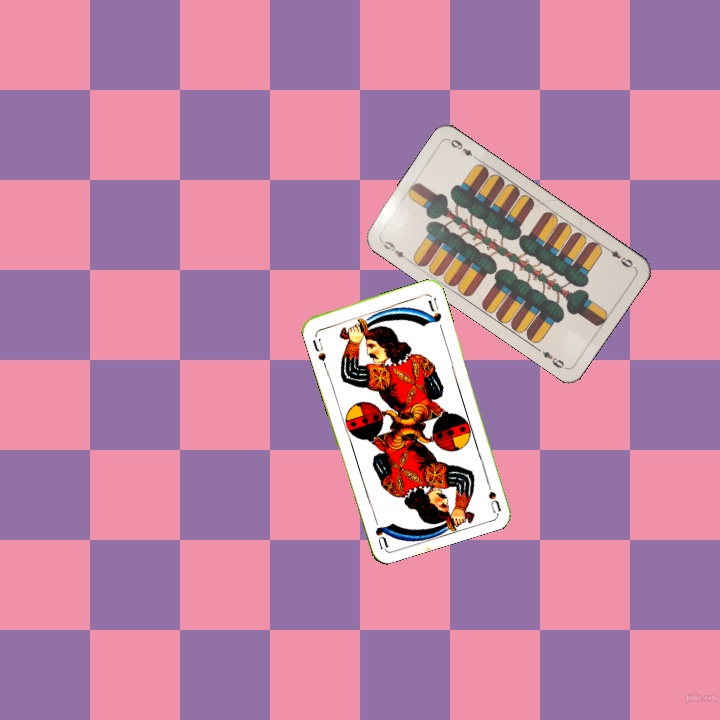E9: (377, 236, 412, 264), (601, 243, 637, 270)
SU: (482, 473, 503, 514), (308, 334, 328, 364)
